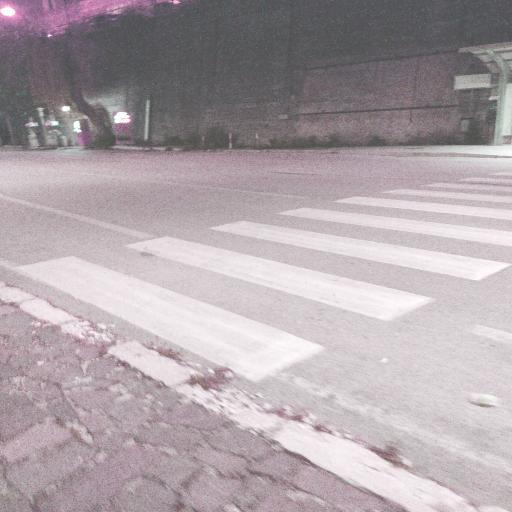crosswalk: (112, 214, 511, 345)
